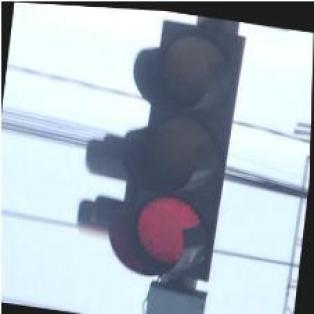Semaforo Rojo: (107, 10, 246, 286)
